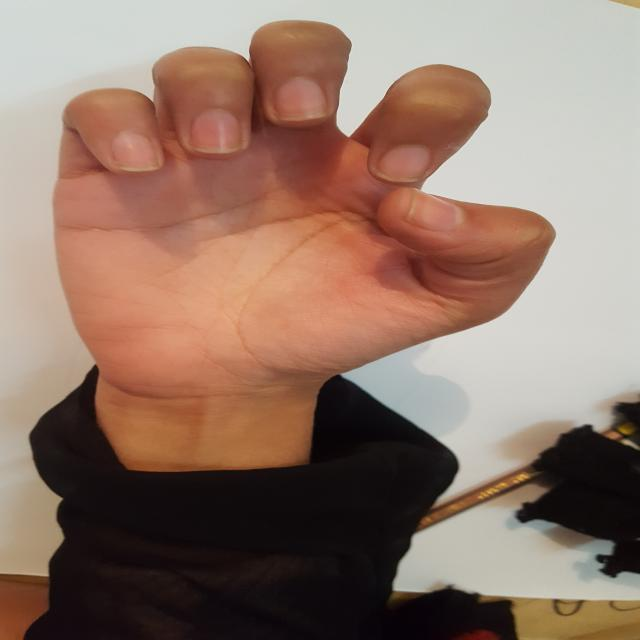Nail: (405, 188, 464, 231), (189, 110, 244, 154), (374, 144, 434, 183), (276, 78, 327, 121), (111, 131, 160, 171)
